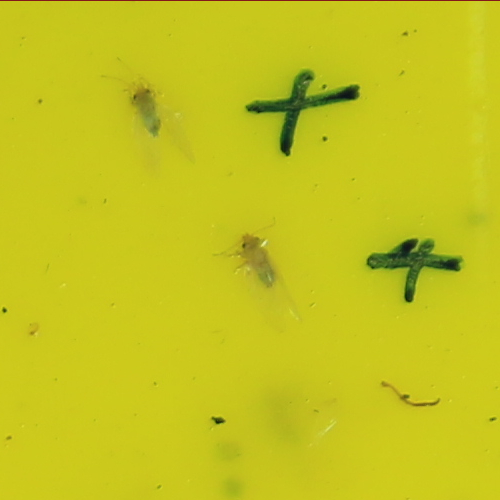Glycaspis: (238, 232, 278, 285), (129, 81, 162, 135)
